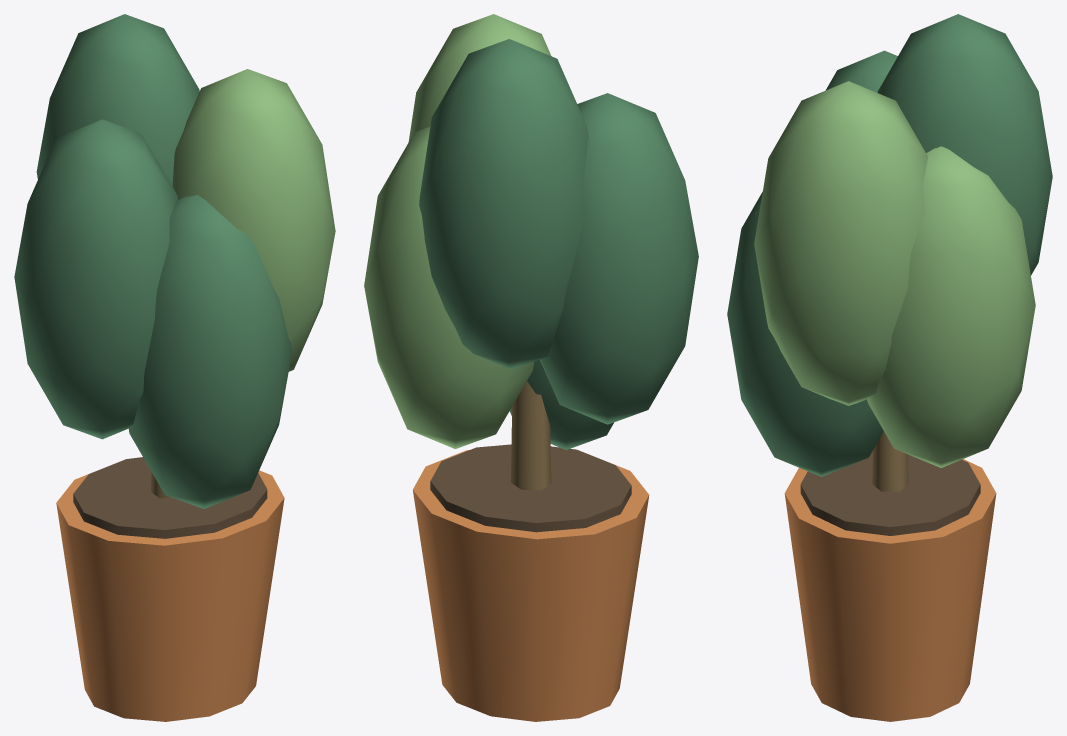
Rendered from plant.glb.
The picture shows the model from 3 angles, left to right: view 1: azimuth 30°, elevation 25°; view 2: azimuth 150°, elevation 25°; view 3: azimuth 270°, elevation 25°; orthographic projection. The views are drawn at different scales.
Parts seen in each view (by area): view 1: plant-movable; view 2: plant-movable; view 3: plant-movable.
Boxes of the visible parts, x1=… form: plant-movable: x1=14, y1=14, x2=335, y2=721; plant-movable: x1=364, y1=14, x2=698, y2=721; plant-movable: x1=727, y1=14, x2=1052, y2=721.
Size of the model in its own units: 0.6 by 1.35 by 0.6.
